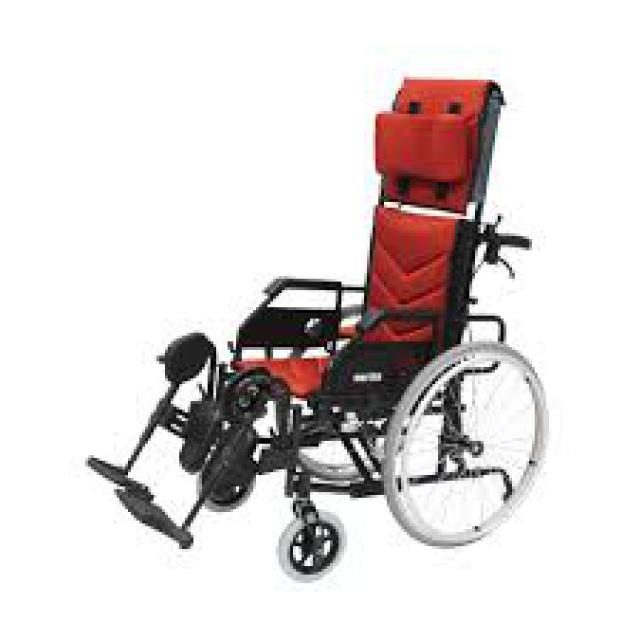wheelchair: (71, 71, 552, 583)
